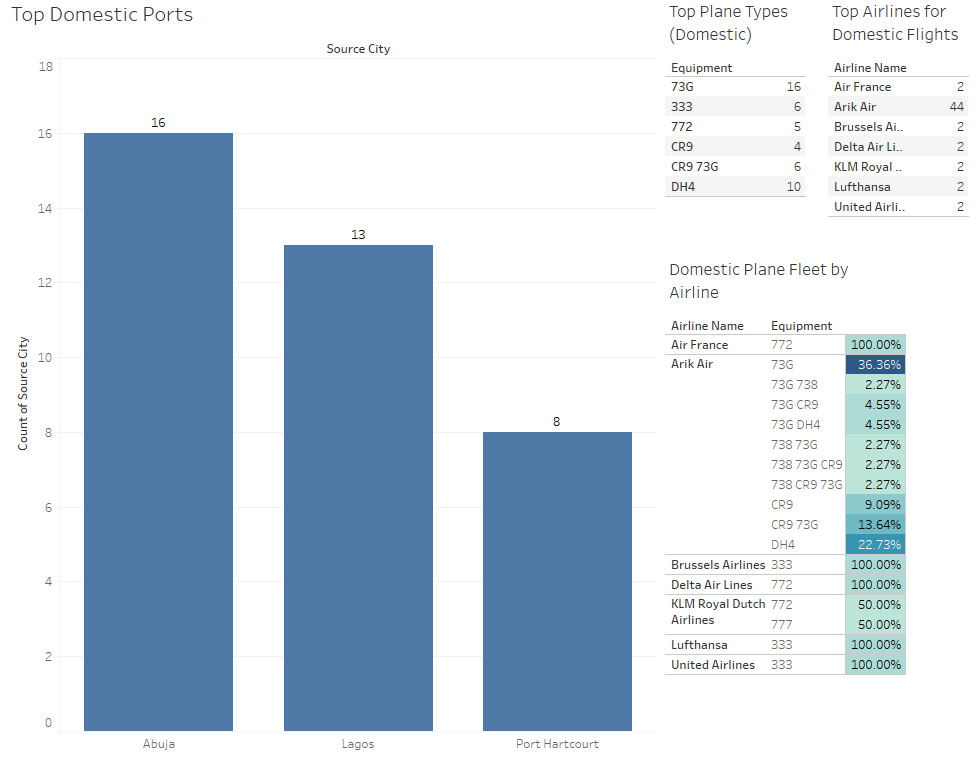

Layout of this report page (visuals, bound fields, positions):
{"tool":"tableau","page":{"name":"Domestic","canvas":[1000,800],"ordinal":1},"visuals":[{"type":"worksheet","title":"Sheet 5","mark":"Automatic","rows":["Source_City"],"cols":["Source_City"],"box":[8,8,658,784]},{"type":"worksheet","title":"Sheet 6","mark":"Automatic","rows":["Equipment"],"box":[666,8,163,258]},{"type":"worksheet","title":"Sheet 7","mark":"Automatic","rows":["Airline_Name"],"box":[829,8,163,258]},{"type":"worksheet","title":"Sheet 9","mark":"Square","rows":["Airline_Name","Equipment"],"box":[666,266,326,526]}]}

Visuals, with their boxes in screenshot pixels (x1, y1, x2, y2), scaled from the page's 1000x800 canvas onto the 976x761 screenshot:
"Sheet 5" worksheet: x1=8, y1=8, x2=650, y2=753
"Sheet 6" worksheet: x1=650, y1=8, x2=809, y2=253
"Sheet 7" worksheet: x1=809, y1=8, x2=968, y2=253
"Sheet 9" worksheet (Square marks): x1=650, y1=253, x2=968, y2=753
